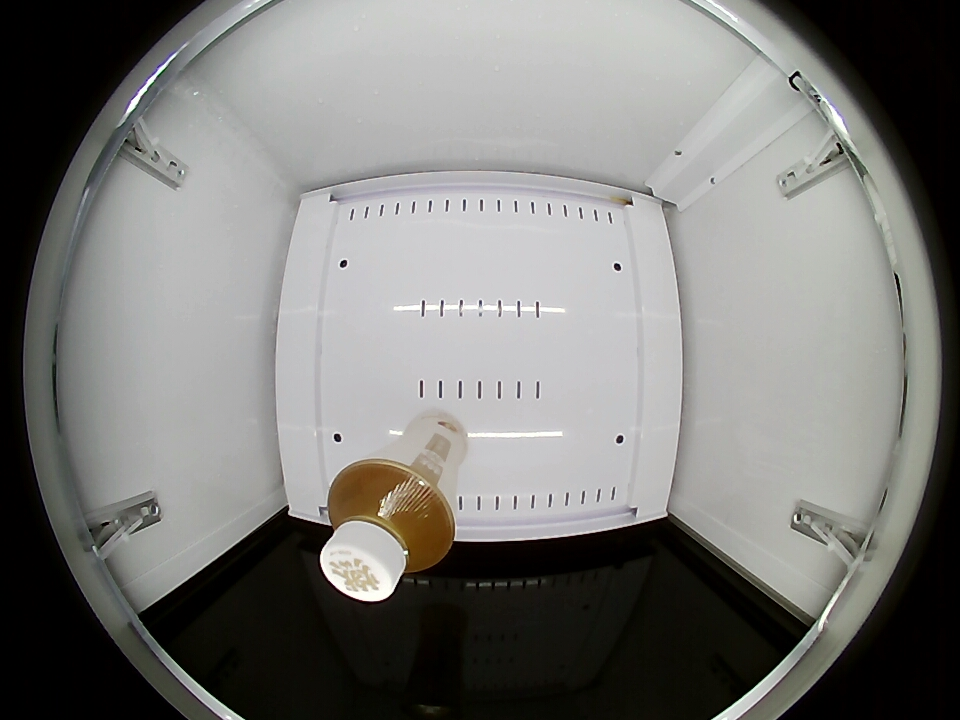rancha-2: (321, 459, 455, 602)
